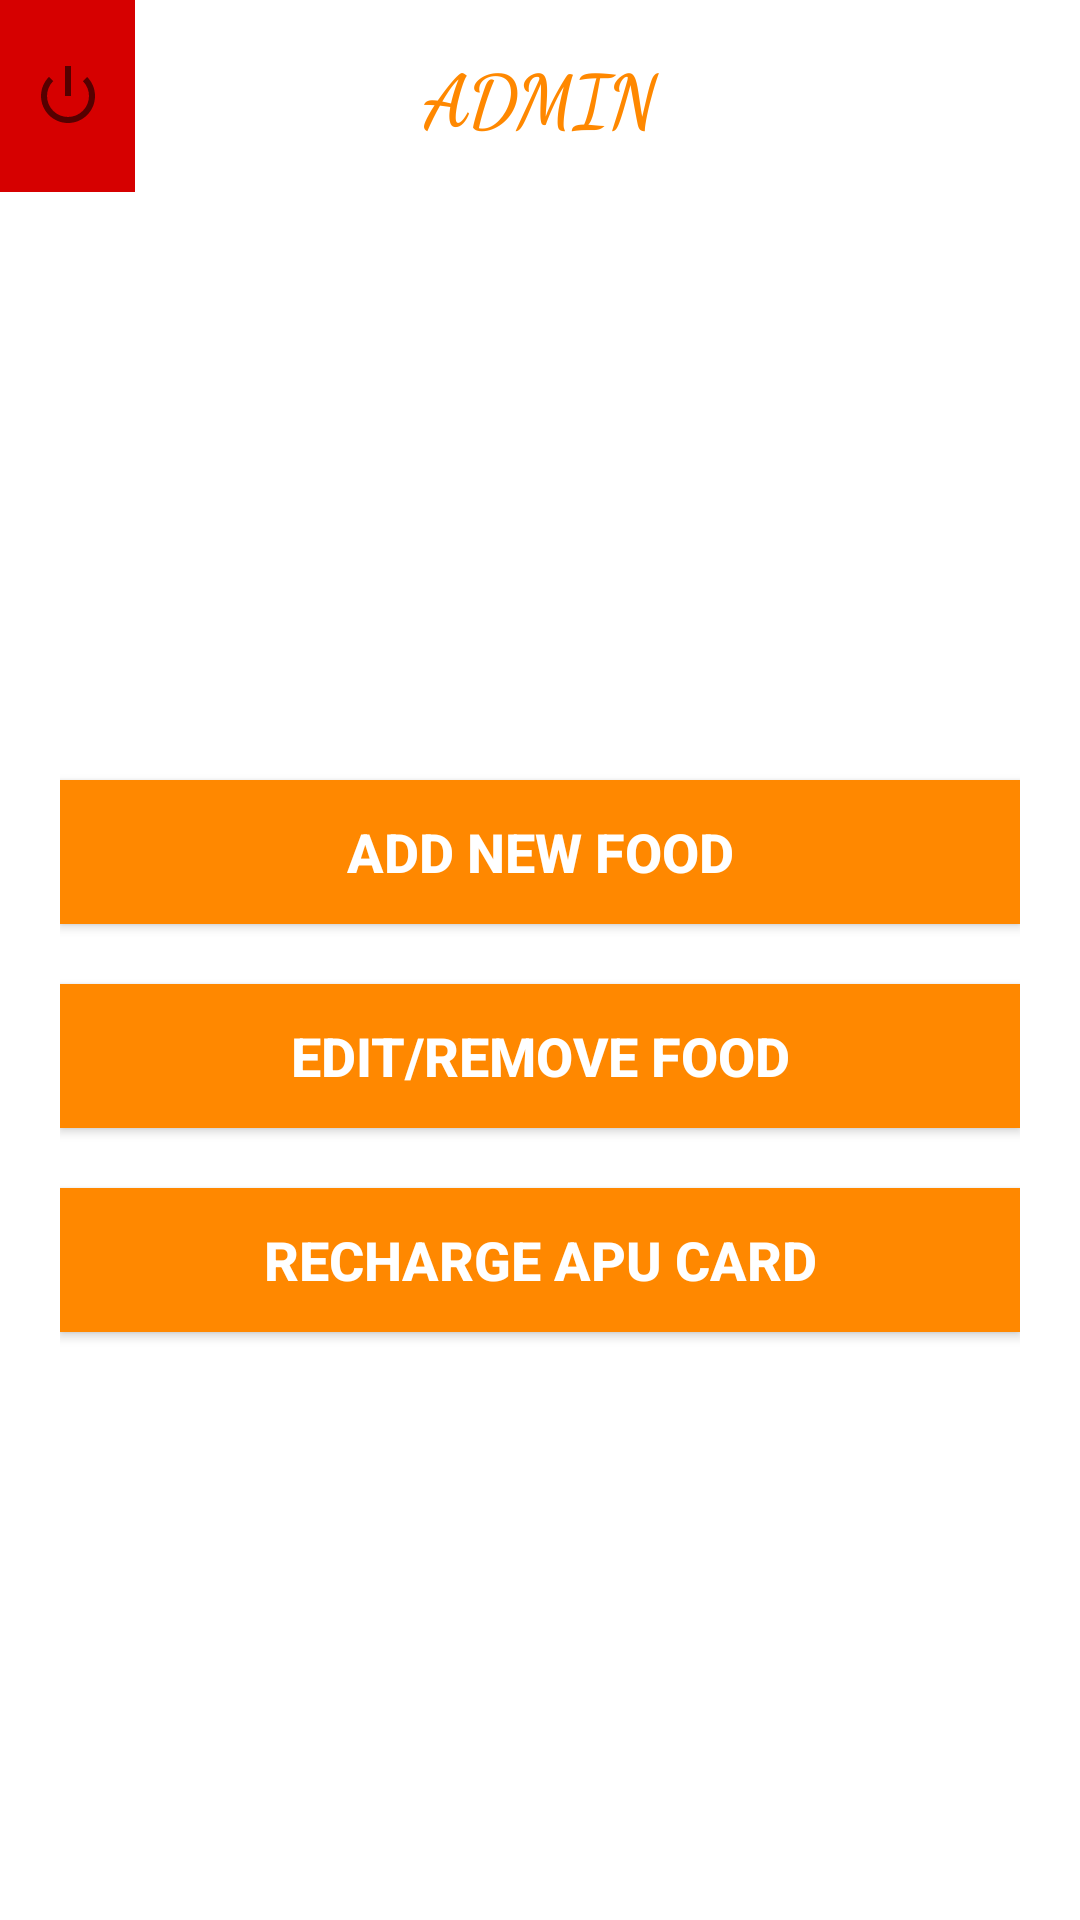

Screen size 1080*1920. Icon name, then its center in pixels as [x,y]:
lock power off: [67,96]
